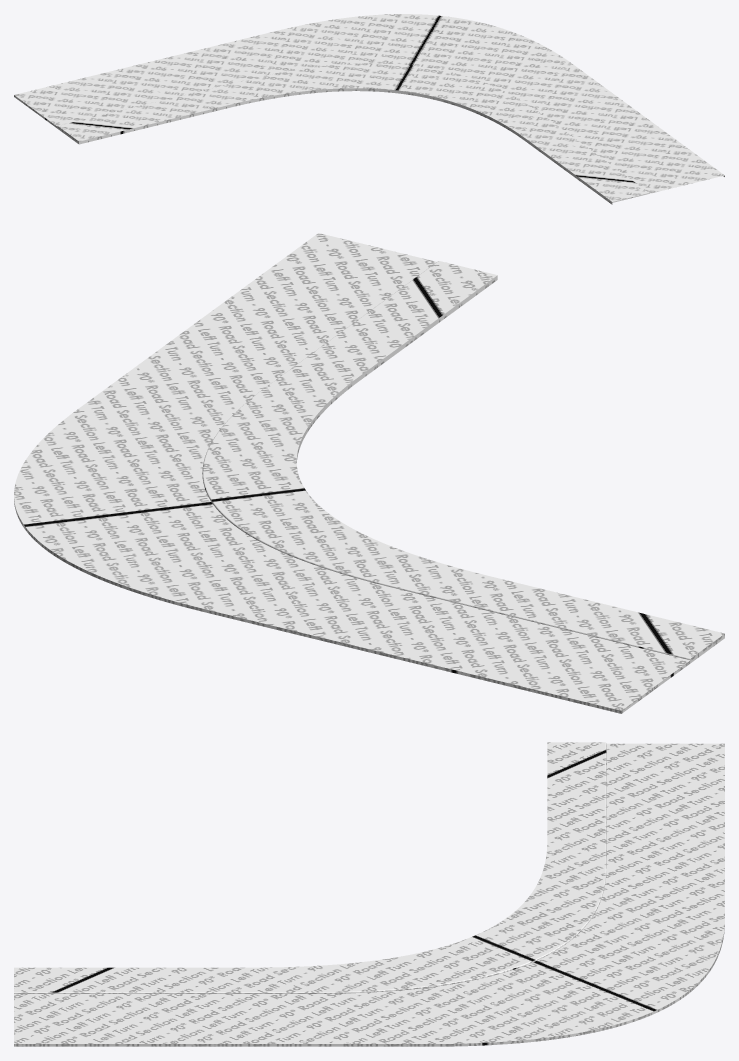
File: Left_Turn.FBX
3 renders of one model, top to bottom at view 1: azimuth 30°, elevation 25°; view 2: azimuth 150°, elevation 25°; view 3: azimuth 270°, elevation 25°, orthographic. The views are drawn at different scales.
Parts seen in each view (by area): view 1: Left_Turn; view 2: Left_Turn; view 3: Left_Turn.
Boxes of the visible parts, x1,y1,x2,y2 form: Left_Turn: (14, 14, 724, 204); Left_Turn: (14, 233, 724, 713); Left_Turn: (14, 742, 724, 1046).
Bounding box in the file's own units: 4800 × 30 × 4800.
2 materials, 2 textured.
